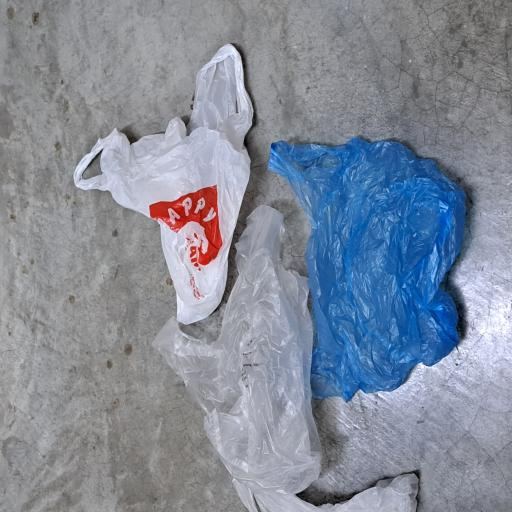plastic bag: (0, 200, 233, 437), (140, 96, 354, 343), (80, 357, 286, 512)
